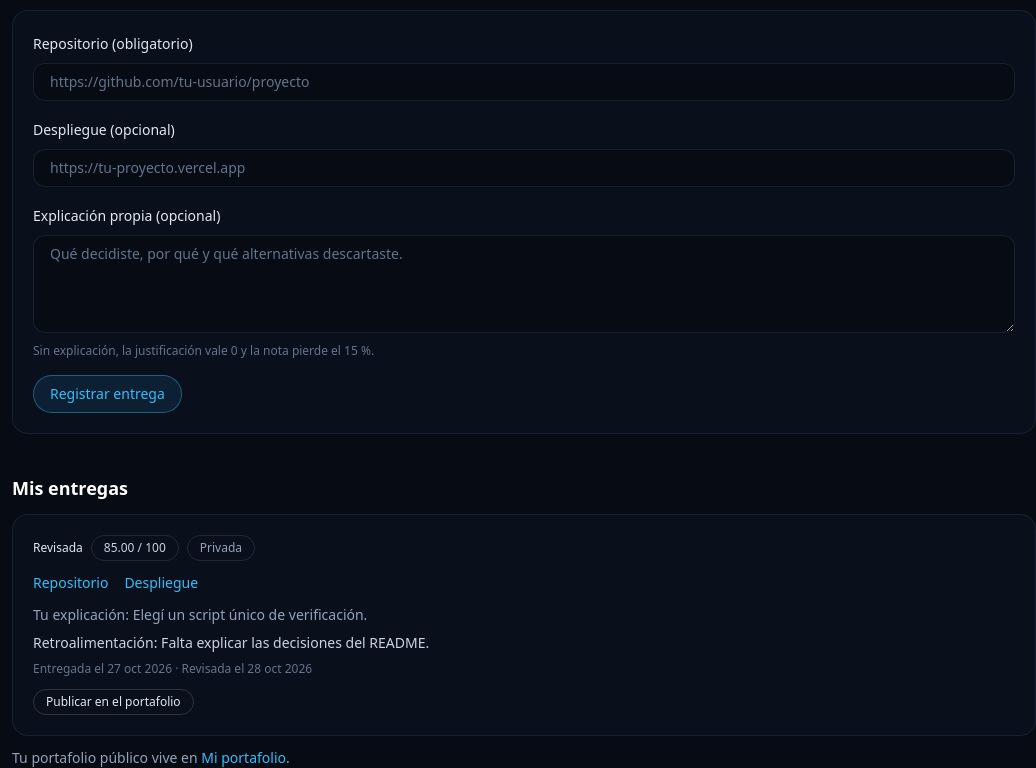
Scenario: ProjectWorkspace › publica una entrega en el portafolio y refleja el estado
(page scrolled)
Click the button "Publicar en el portafolio" at (113, 702), box [33,689,194,715]
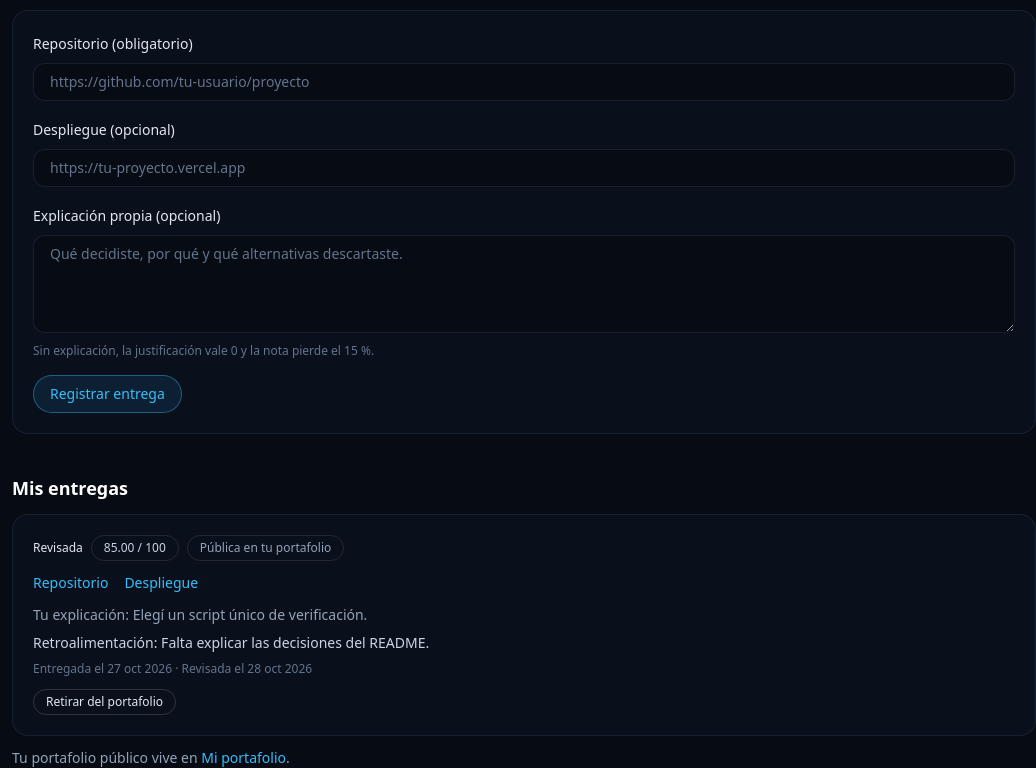
Result: the text "Pública en tu portafolio" is shown at [187,535,344,561]
Result: the button "Retirar del portafolio" is shown at [33,689,176,715]
